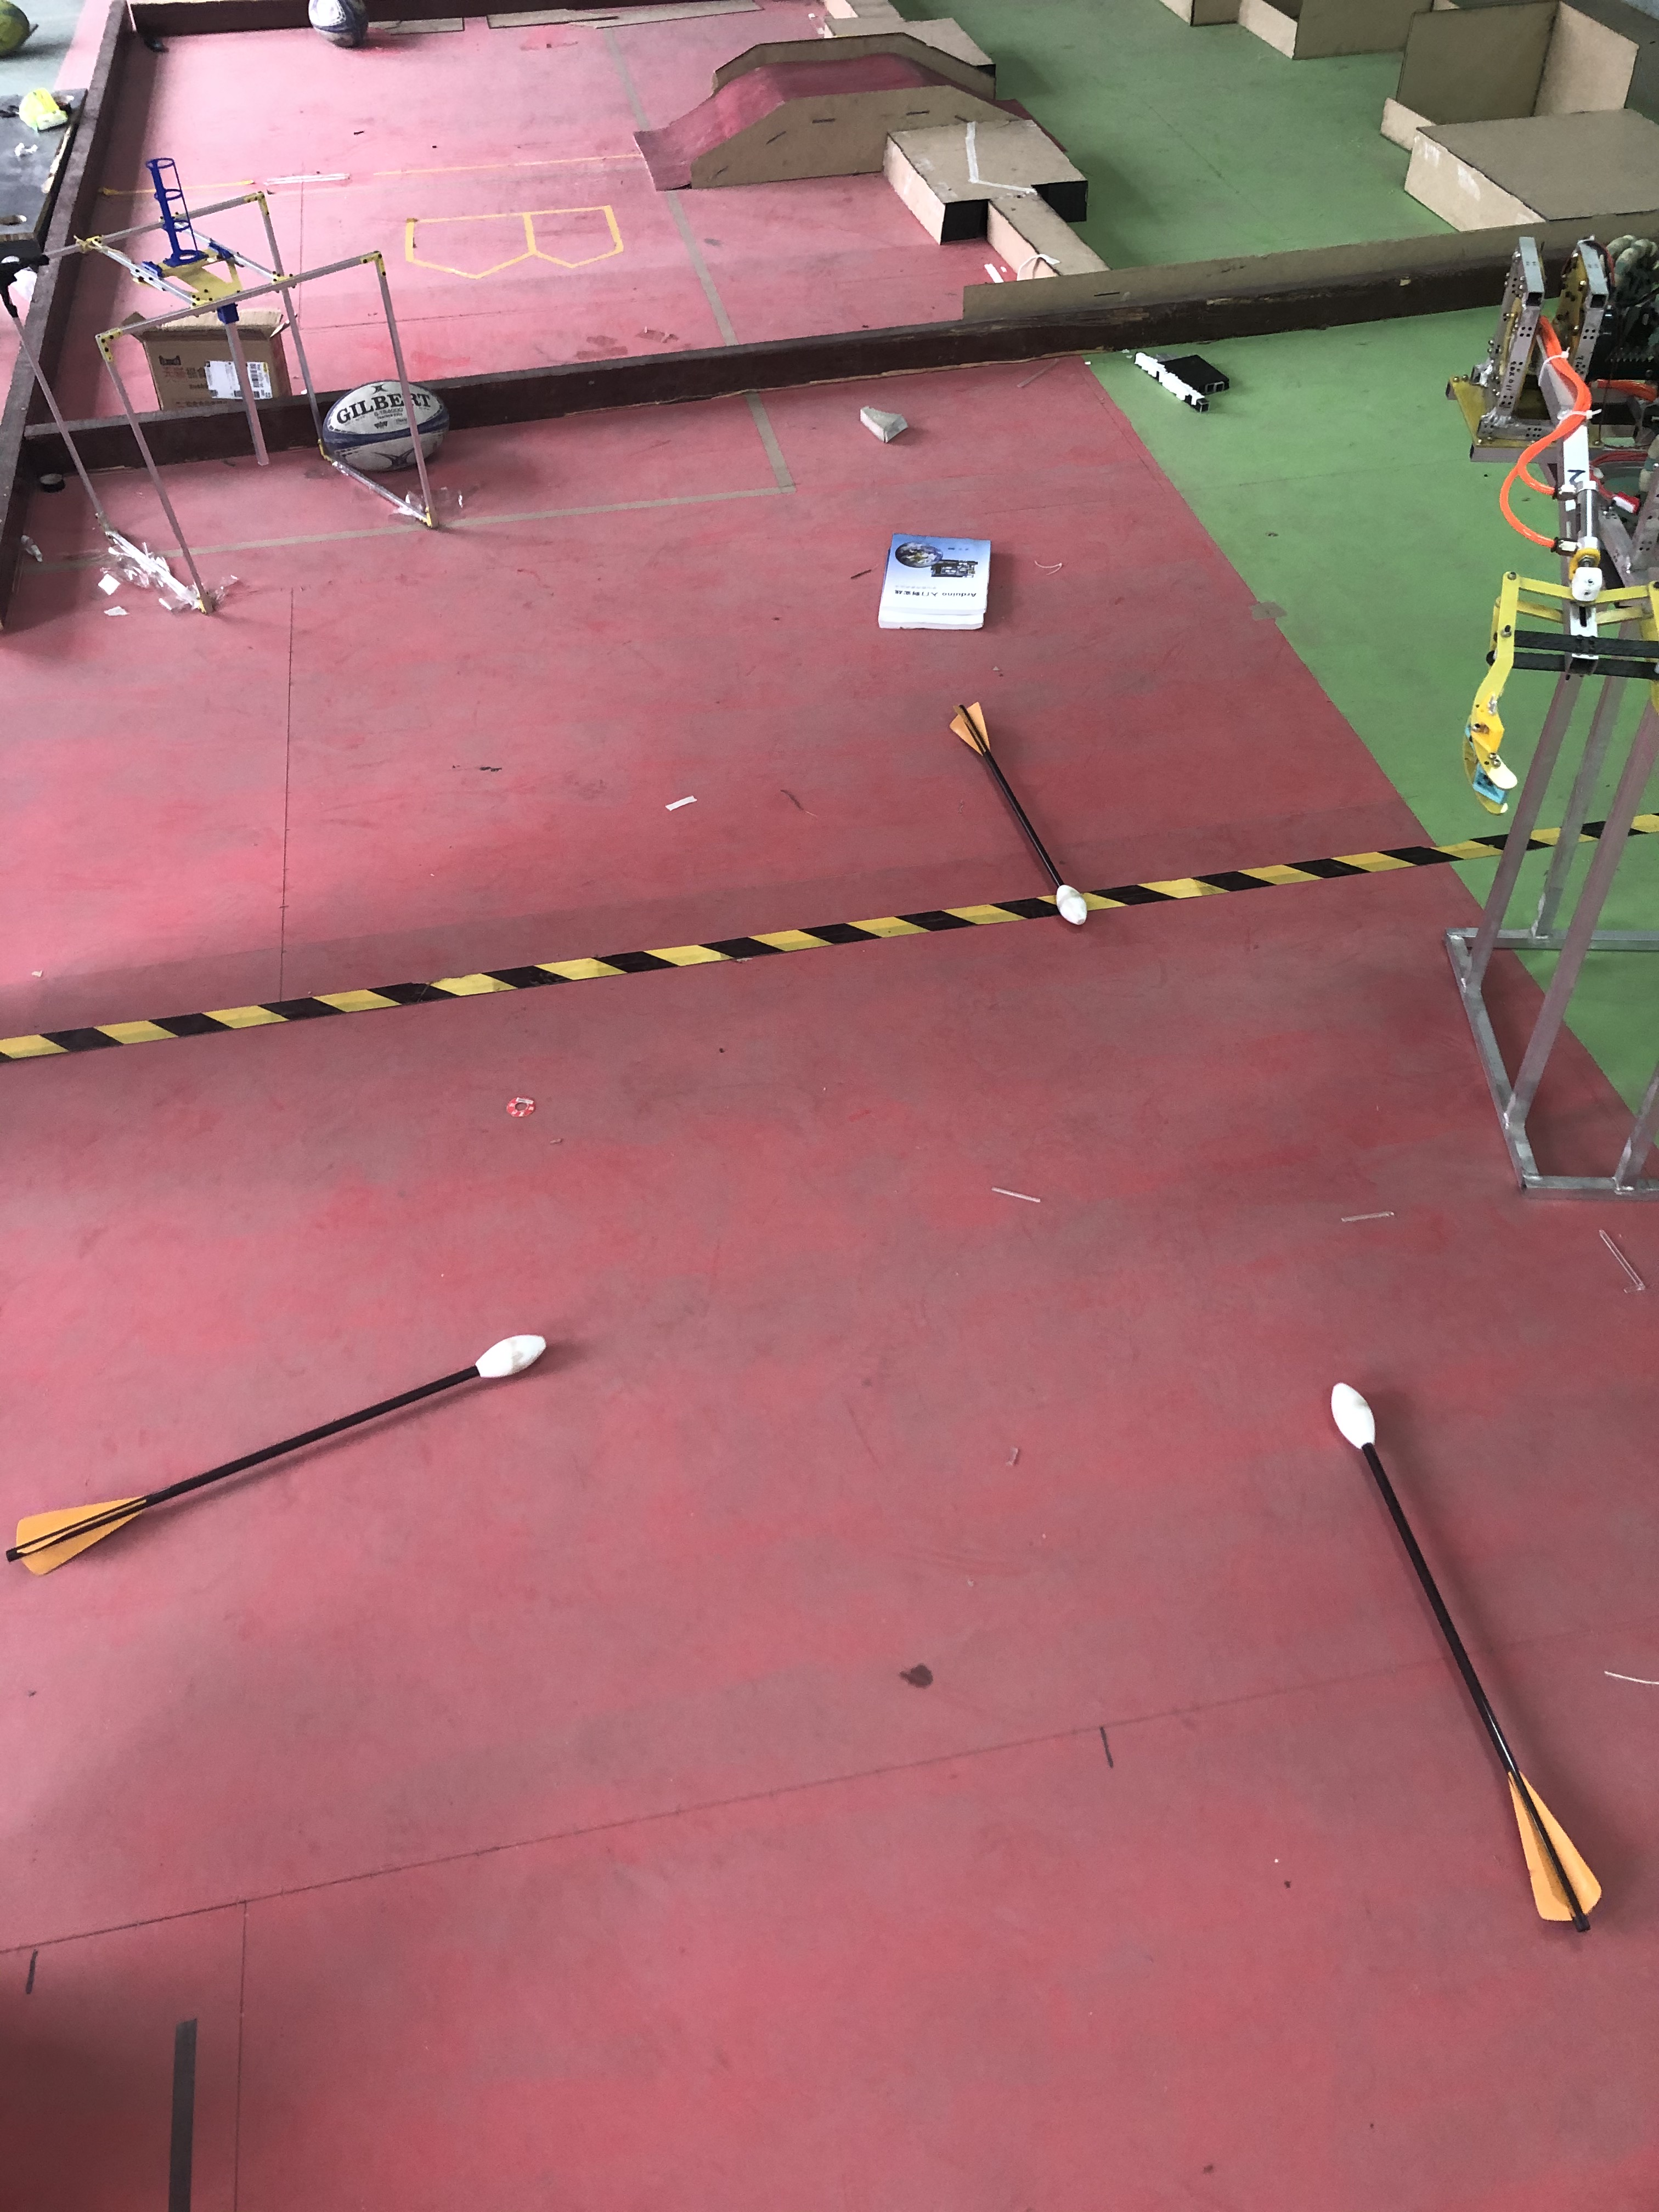arrow: (1326, 1379, 1610, 1940), (9, 1327, 552, 1583), (943, 695, 1089, 927)
arrowFront: (471, 1329, 551, 1392), (1321, 1379, 1385, 1451), (1049, 873, 1087, 928)
